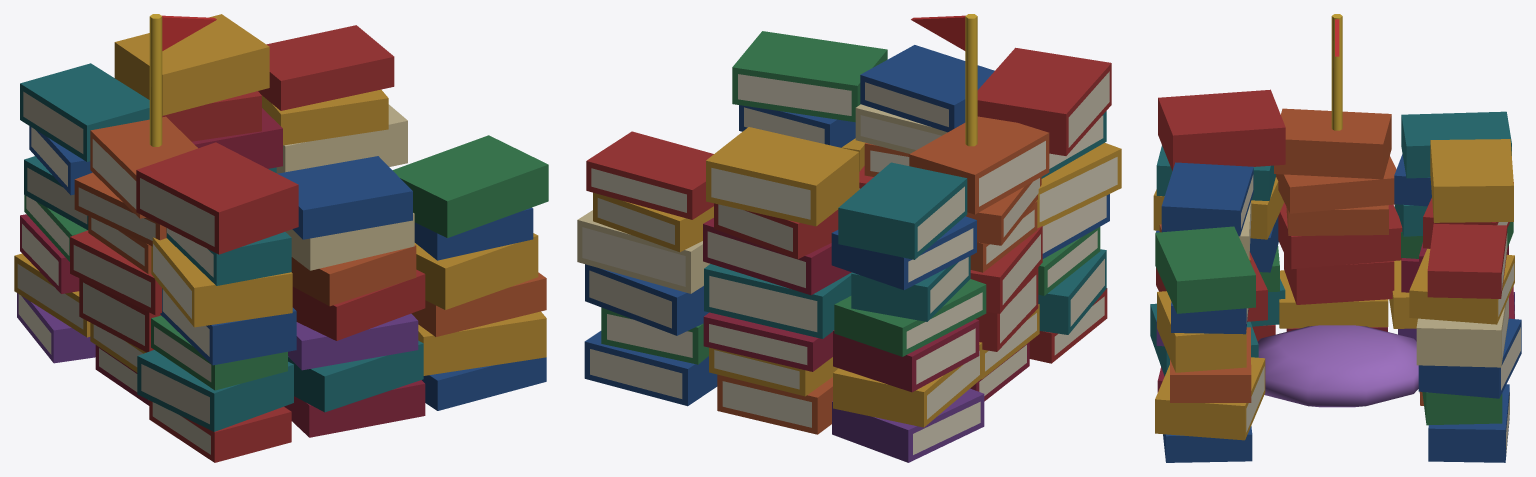
The model's file is library-hide.glb.
3 views of the same model, side by side, from view 1: azimuth 30°, elevation 25°; view 2: azimuth 150°, elevation 25°; view 3: azimuth 270°, elevation 25° (orthographic). The views are drawn at different scales.
Parts seen in each view (by area): view 1: library-hide; view 2: library-hide; view 3: library-hide.
Boxes of the visible parts, x1,y1,x2,y2 form: library-hide: (14, 14, 548, 462); library-hide: (577, 14, 1121, 462); library-hide: (1150, 14, 1521, 462).
Bounding box in the file's own units: 1.32 × 1.31 × 1.34.
